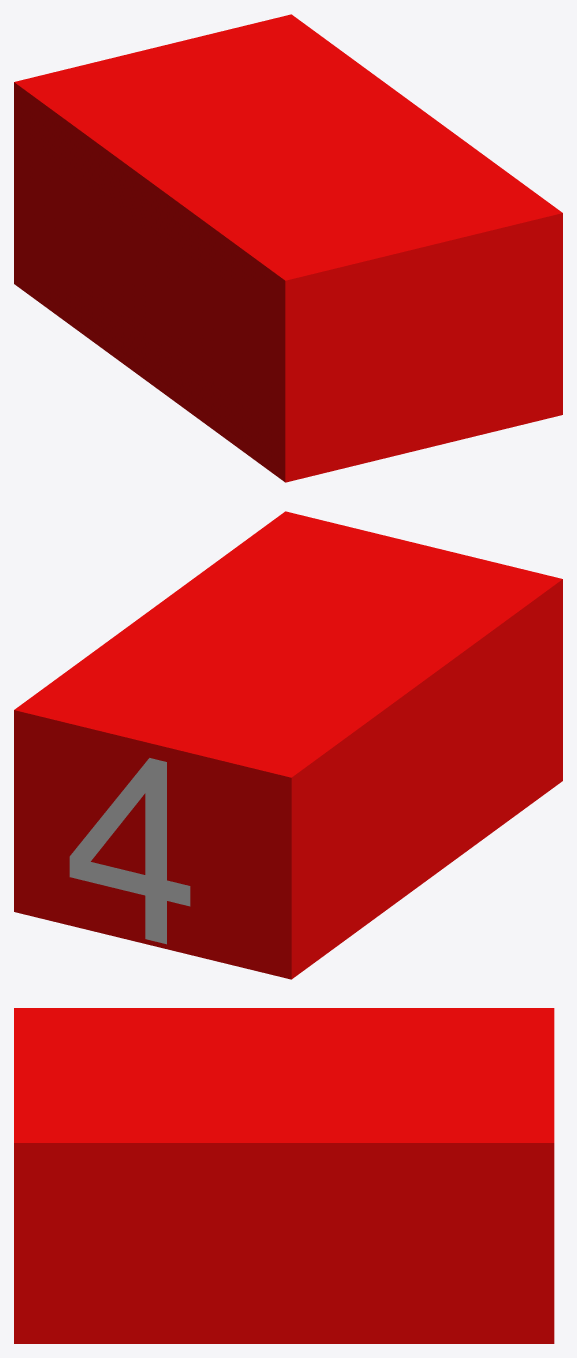
File: car04.glb
3 views of the same model, one above another, from view 1: azimuth 30°, elevation 25°; view 2: azimuth 150°, elevation 25°; view 3: azimuth 270°, elevation 25° (orthographic).
Parts seen in each view (by area): view 1: Box001; view 2: Box001, 4; view 3: Box001.
Boxes of the visible parts, x1=… form: Box001: x1=14, y1=14, x2=562, y2=482; Box001: x1=14, y1=511, x2=562, y2=979; 4: x1=69, y1=758, x2=190, y2=944; Box001: x1=14, y1=1008, x2=554, y2=1343.
Size of the model in its own units: 17.4 by 12.1 by 29.97.
